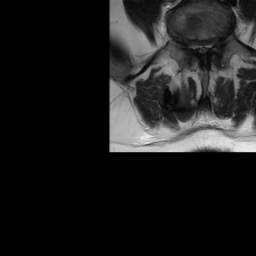CCS_severe_stenosis: (199, 37, 205, 59)
LFS_severe_stenosis: (212, 31, 218, 49)
LLS_severe_stenosis: (205, 37, 212, 56)
RFS_severe_stenosis: (186, 32, 193, 54)
RLS_severe_stenosis: (193, 35, 200, 57)
